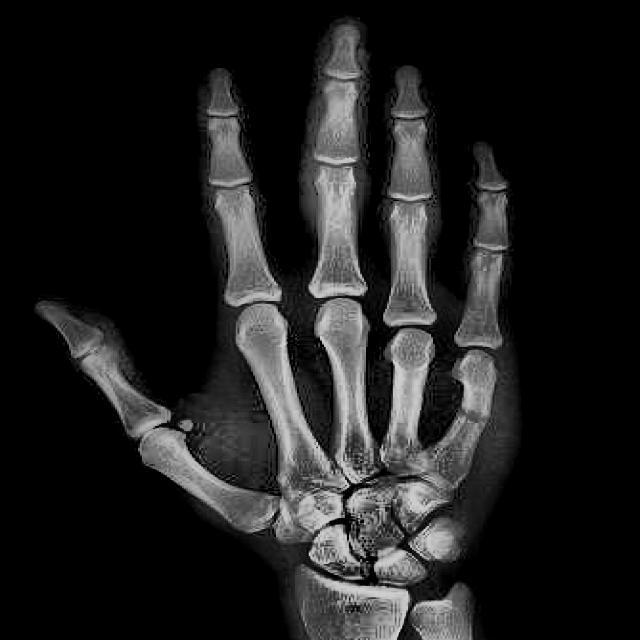fracture: (454, 408, 494, 428)
